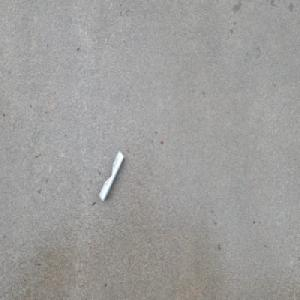ClampPart: (98, 150, 124, 203)
